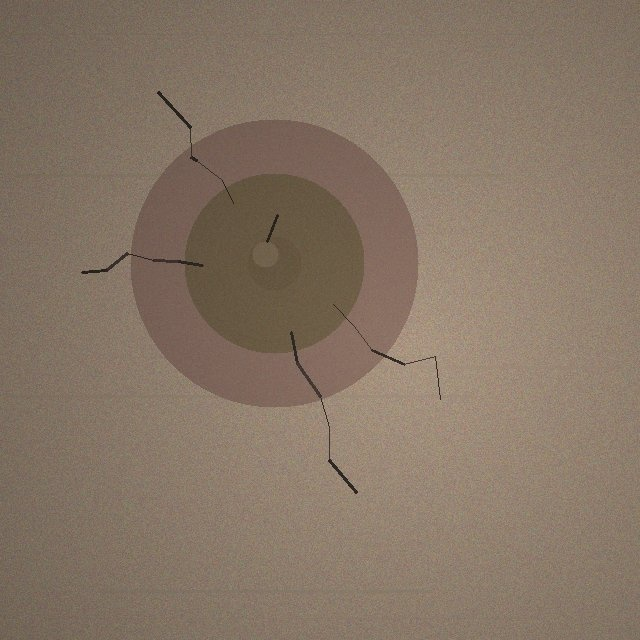crack: (130, 119, 418, 407)
